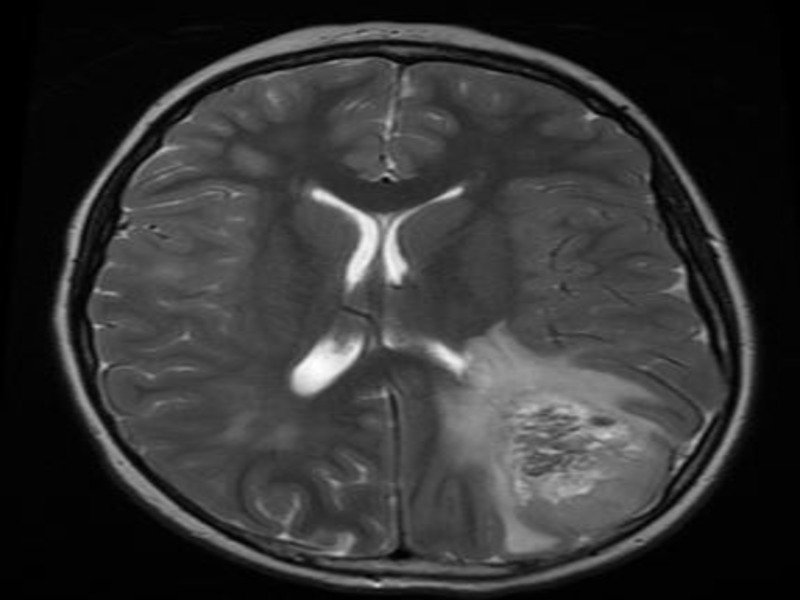tumor: (276, 176, 479, 401)
